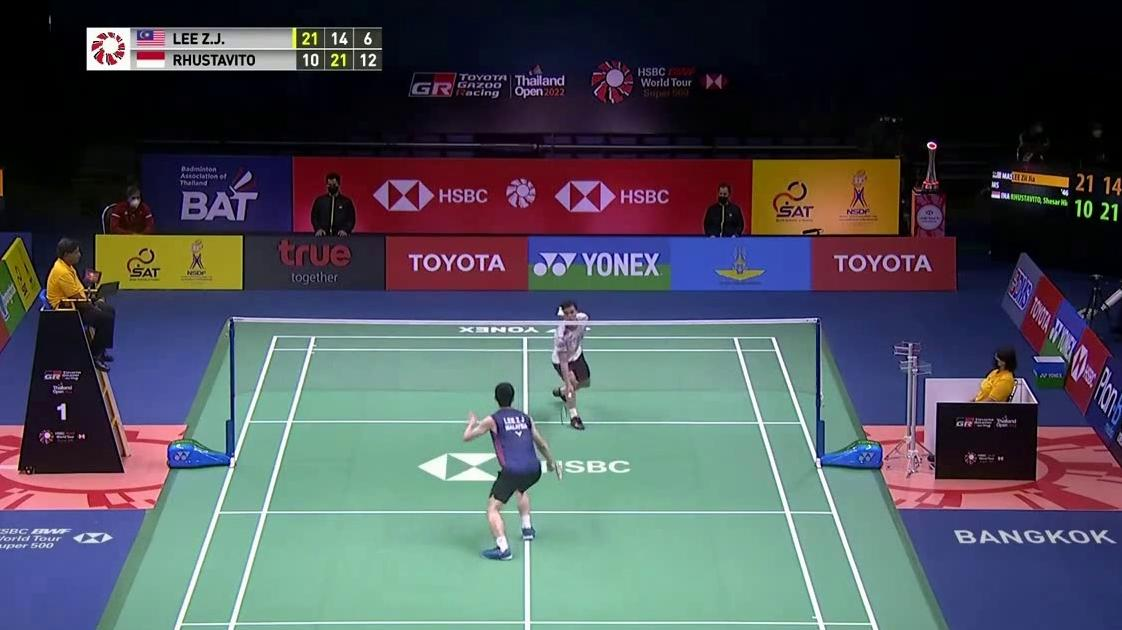racket: (559, 391, 573, 427), (547, 460, 565, 483)
shuttle: (556, 306, 566, 317)
